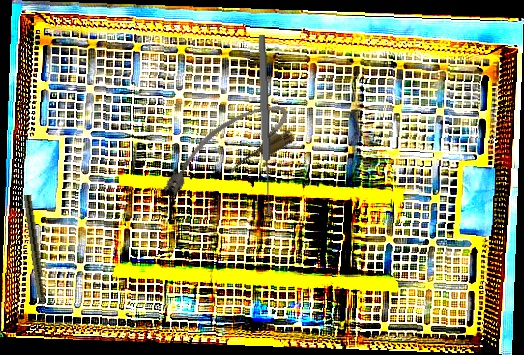Cannula: (147, 93, 302, 208)
Handpiece: (21, 194, 50, 322)
Surgical Spoon: (256, 34, 274, 214)
